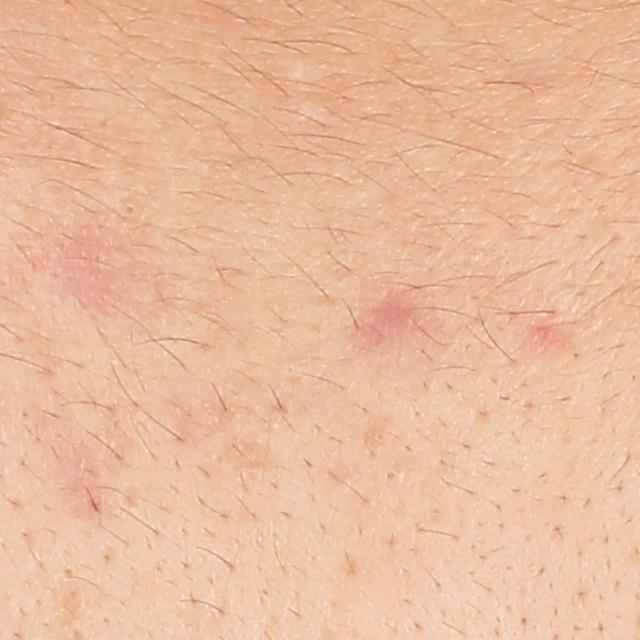comedo: (120, 199, 139, 214)
